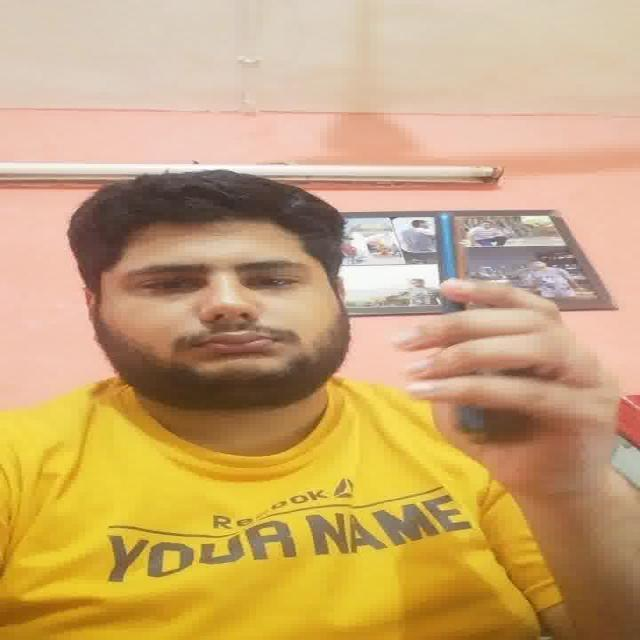Phone: (431, 207, 481, 439)
